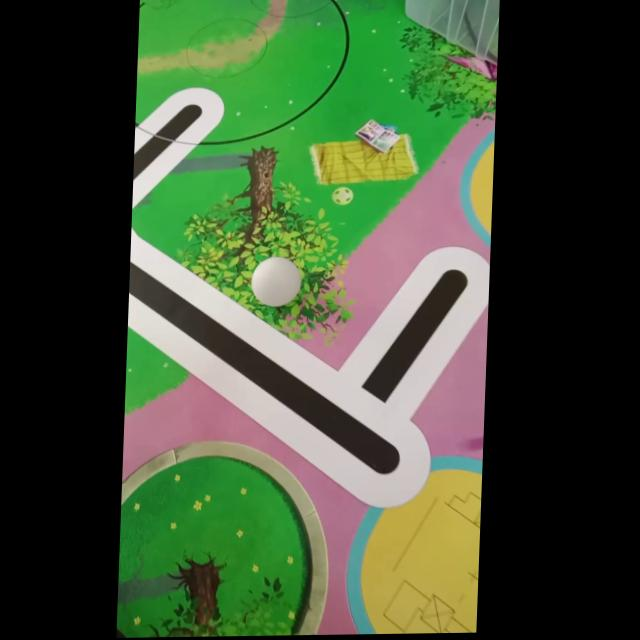white ball: (249, 255, 303, 308)
